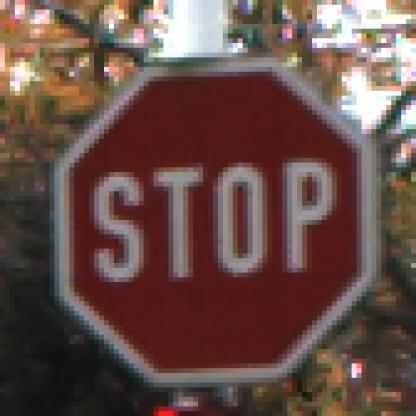stop: (39, 52, 396, 411)
